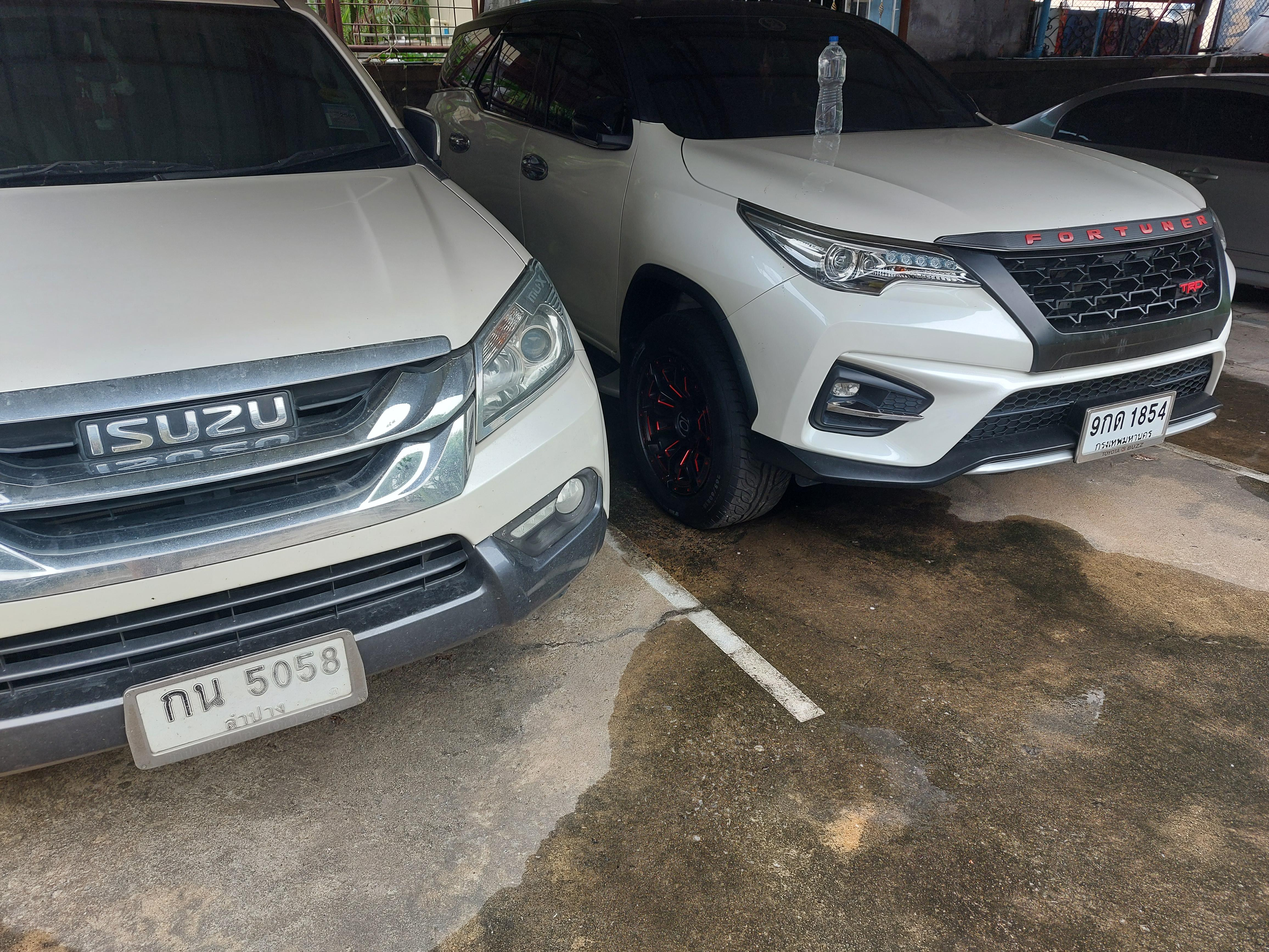license-plate: (120, 626, 372, 775), (1073, 386, 1182, 469)
